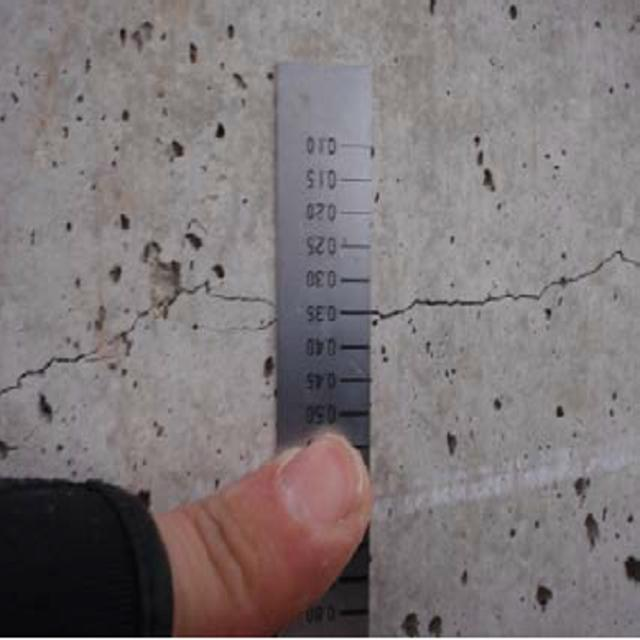crack: (368, 222, 640, 352), (6, 279, 266, 404)
